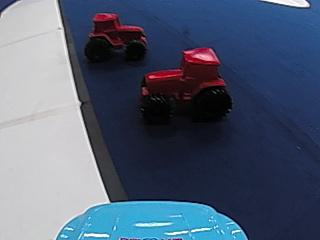Tracktor: (133, 44, 233, 123), (85, 9, 147, 61)
